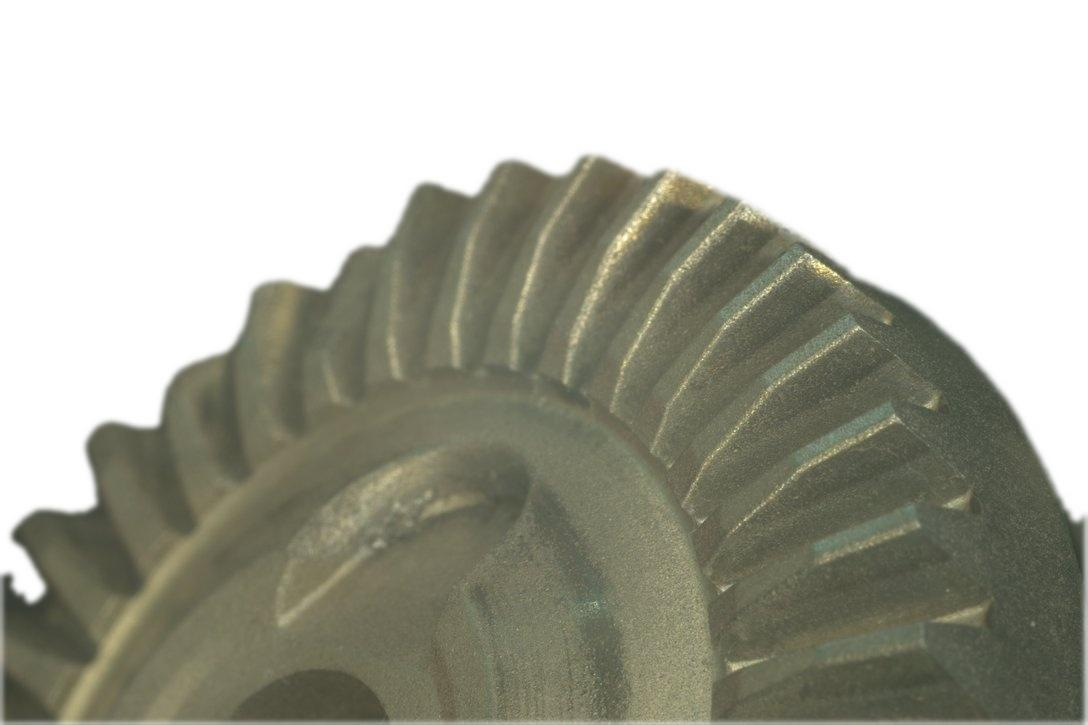defect: (314, 244, 368, 343), (163, 343, 219, 422), (229, 278, 275, 359)
